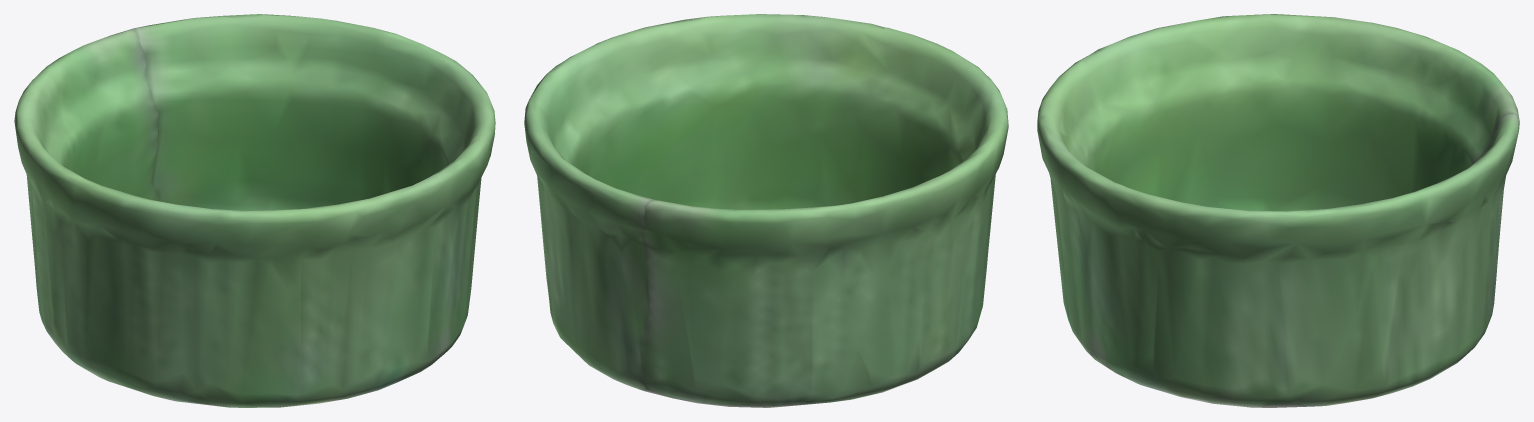
The model's file is 45oz_RAMEKIN_ASST_DEEP_COLORS-medium.glb.
The picture shows the model from 3 angles, left to right: view 1: azimuth 30°, elevation 25°; view 2: azimuth 150°, elevation 25°; view 3: azimuth 270°, elevation 25°; orthographic projection.
Visible parts, largest first — view 1: 45oz_RAMEKIN_ASST_DEEP_COLORS; view 2: 45oz_RAMEKIN_ASST_DEEP_COLORS; view 3: 45oz_RAMEKIN_ASST_DEEP_COLORS.
Part boxes in pixels (box(x1,y1,x2,y2)): 45oz_RAMEKIN_ASST_DEEP_COLORS: box(14, 14, 495, 407); 45oz_RAMEKIN_ASST_DEEP_COLORS: box(524, 14, 1008, 407); 45oz_RAMEKIN_ASST_DEEP_COLORS: box(1037, 14, 1519, 407).
Bounding box in the file's own units: 0.0897 × 0.0439 × 0.0899.
Materials: 1 (1 with a texture image).
